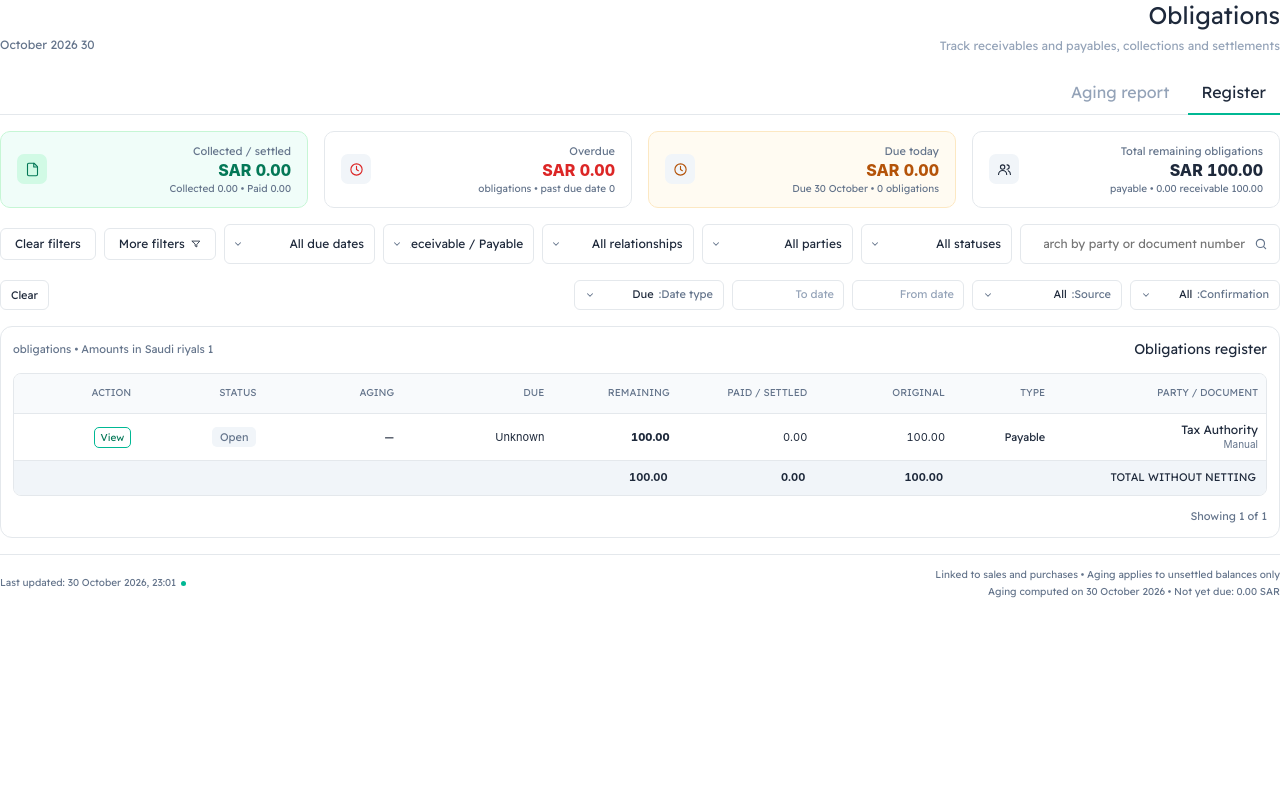
Test: D1/G5 government payment details UI › shows the optional fields only for government counterparties
The image size is (1280, 800).
Click the cell "Tax Authority Manual" at (1160, 437), box left=1053, top=414, right=1266, bottom=461
(page scrolled)
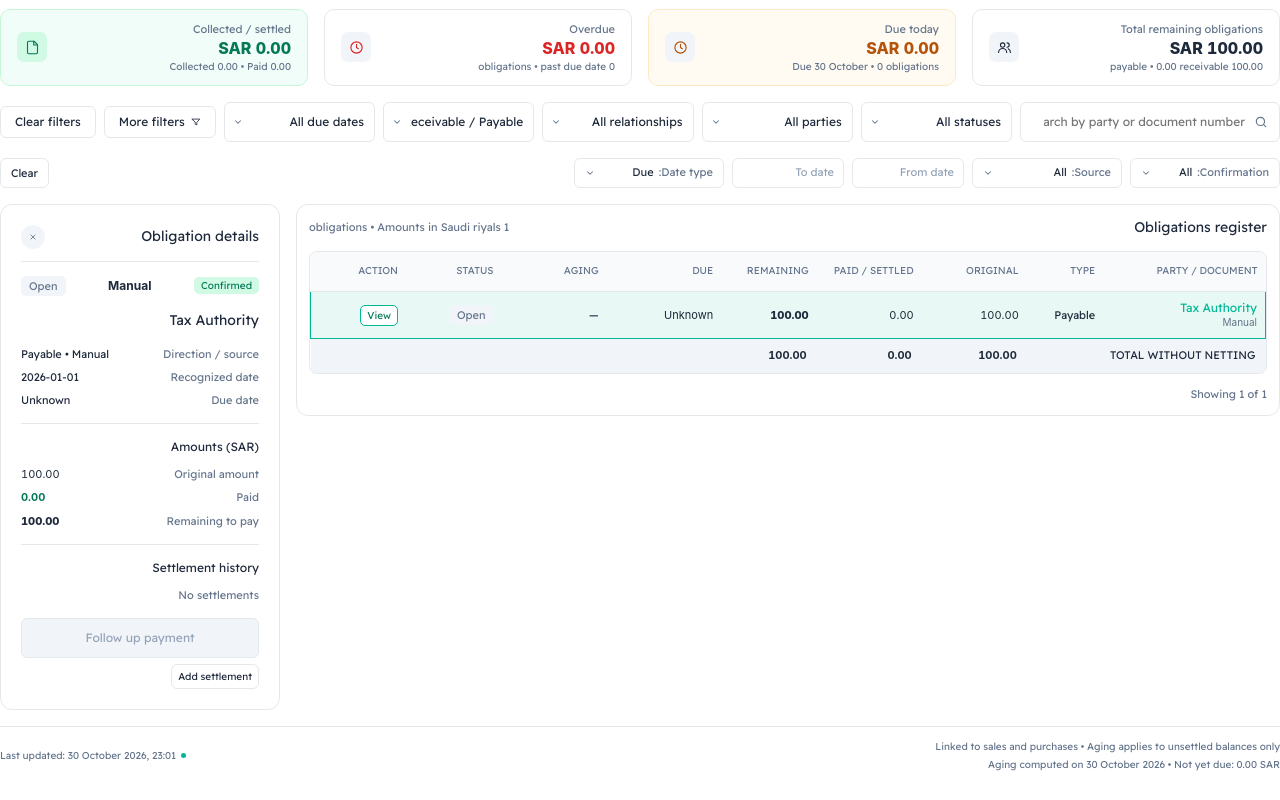
Click the button "Add settlement" at (215, 677), box left=171, top=664, right=259, bottom=689
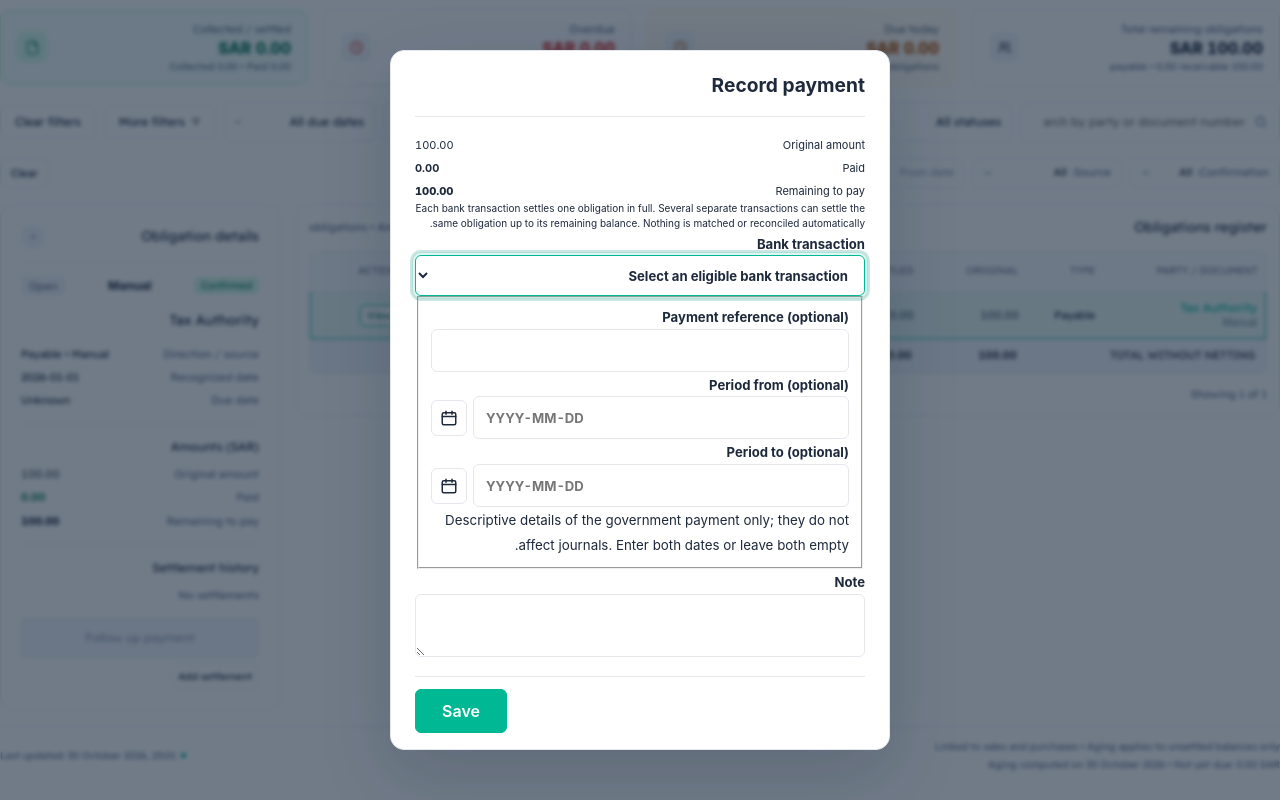
Check: the dropdown labelled "Bank transaction" is shown, box left=415, top=255, right=865, bottom=296
Check: the field labelled "Payment reference (optional)" is shown, box left=431, top=328, right=849, bottom=372
Check: the field labelled "Period from (optional)" is shown, box left=473, top=396, right=849, bottom=440
